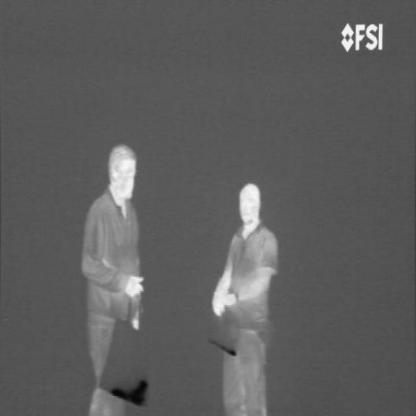weapon: (108, 374, 149, 411)
